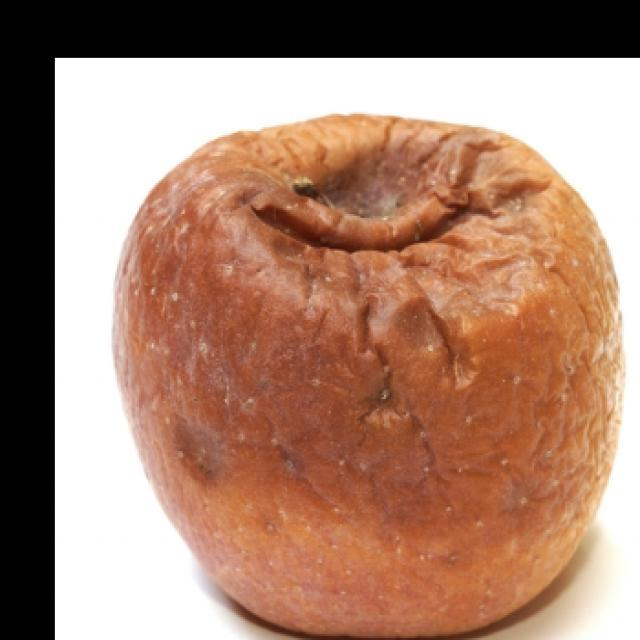Rotten: (108, 108, 630, 637)
